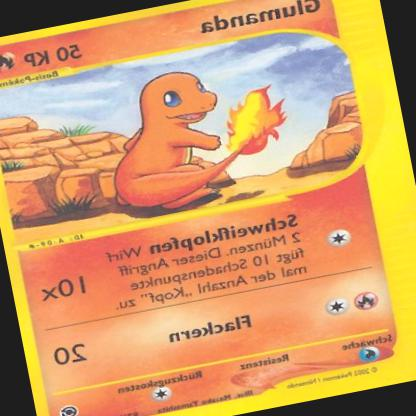Charmander: (89, 54, 274, 224)
